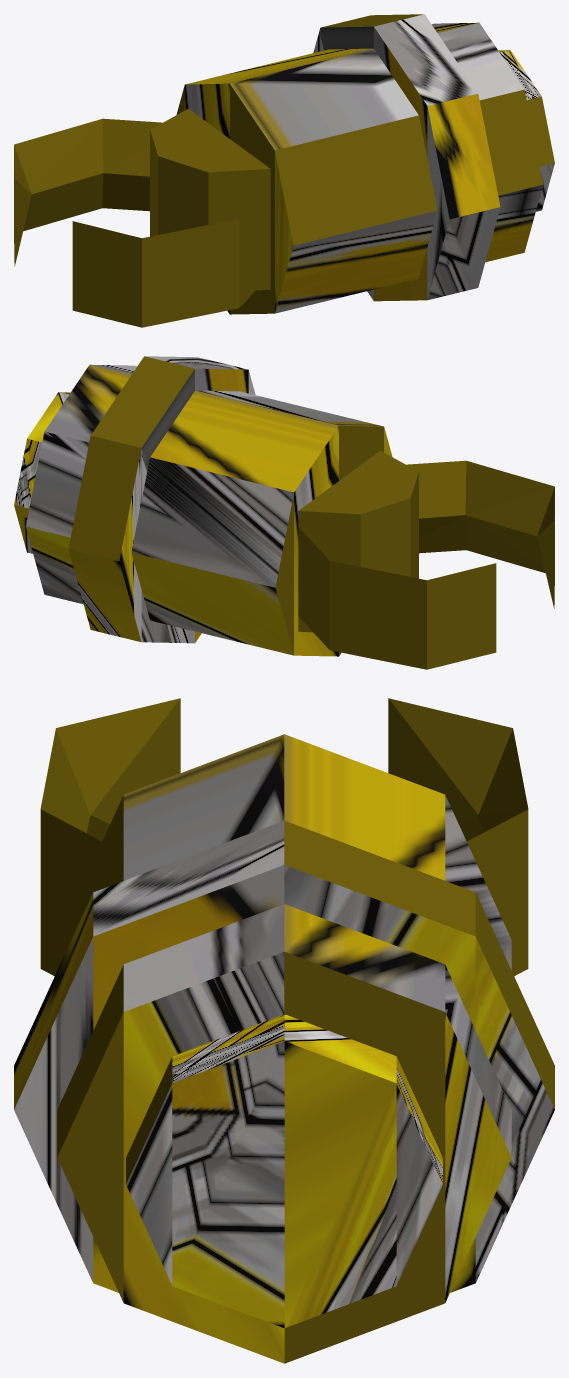
The model's file is caha050.obj.
3 renders of one model, top to bottom at view 1: azimuth 30°, elevation 25°; view 2: azimuth 150°, elevation 25°; view 3: azimuth 270°, elevation 25°, orthographic. The views are drawn at different scales.
Size of the model in its own units: 57.28 by 32.2 by 32.2.
